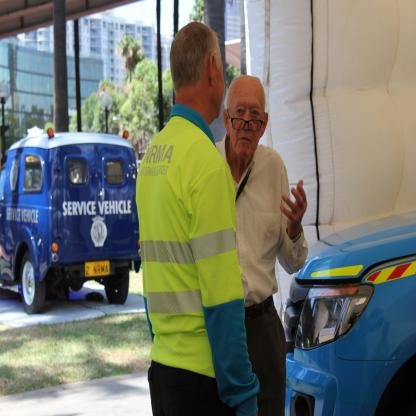Ambulance: (0, 123, 142, 315)
